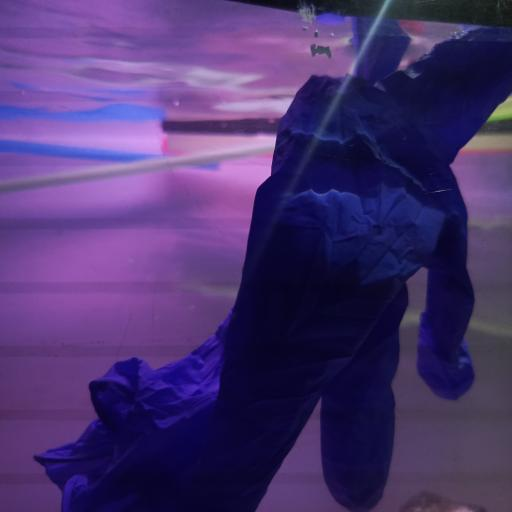glove: (36, 21, 512, 511)
plastic_straw: (0, 141, 278, 195), (159, 117, 512, 141), (0, 140, 219, 173)
